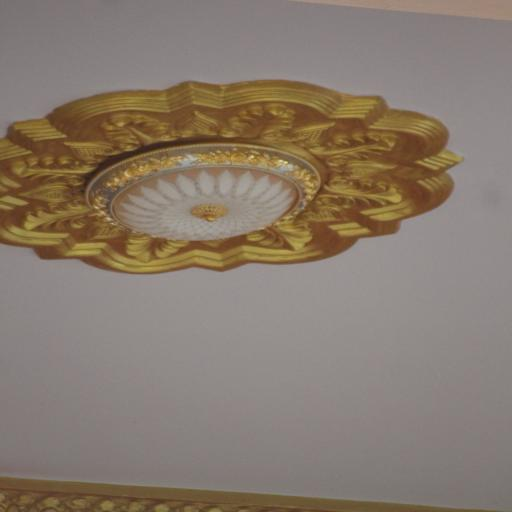la: (221, 99, 295, 139), (318, 177, 404, 207), (323, 130, 396, 164), (100, 113, 180, 143), (256, 216, 320, 251), (24, 201, 93, 233), (12, 154, 93, 181), (121, 231, 183, 263), (175, 110, 222, 139), (332, 161, 399, 181), (62, 139, 115, 161), (26, 181, 80, 201), (291, 122, 339, 144), (88, 219, 126, 239), (308, 204, 344, 225)
